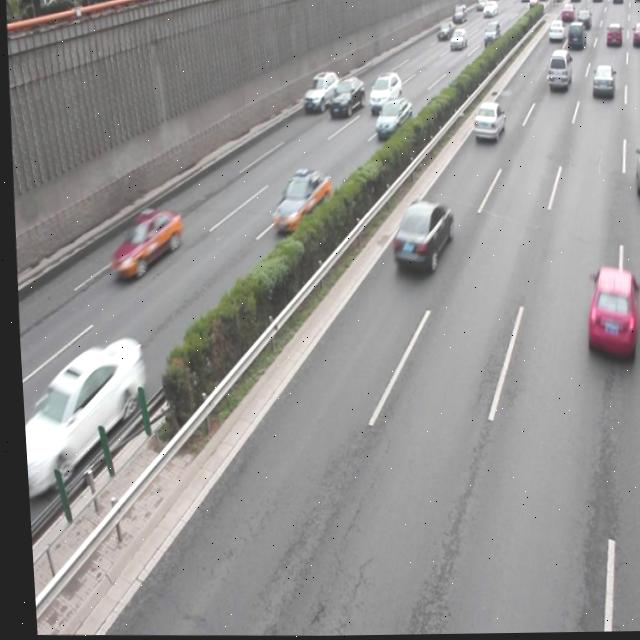car: (23, 335, 145, 486), (578, 266, 638, 363), (104, 206, 181, 280), (385, 198, 452, 276), (265, 167, 330, 233), (325, 75, 365, 119), (299, 69, 339, 113), (372, 98, 412, 138), (469, 101, 504, 146), (629, 143, 640, 198)
